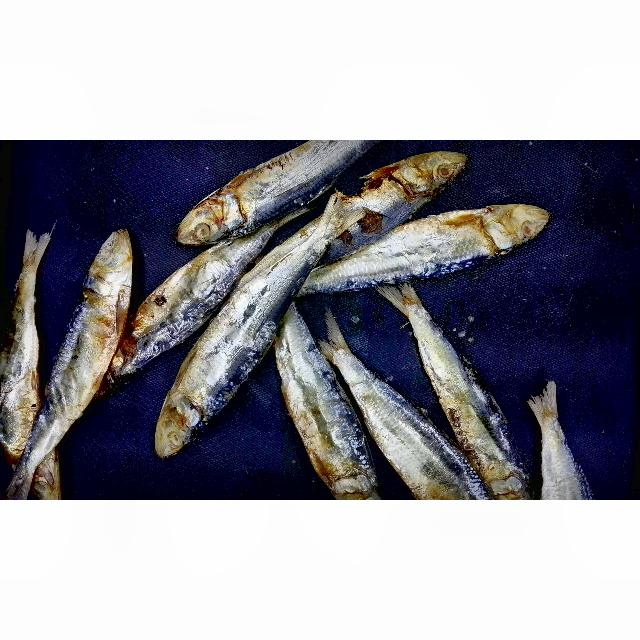Grade_B_Body: (399, 326, 531, 460), (334, 363, 471, 484), (268, 352, 381, 472), (139, 256, 251, 342), (248, 142, 372, 206), (2, 296, 54, 441), (48, 304, 122, 402), (313, 177, 406, 252)
Grade_B_Head: (144, 387, 216, 468), (79, 225, 154, 301), (389, 147, 480, 207), (483, 195, 563, 261), (168, 192, 256, 248)
Grade_B_Tail: (11, 386, 87, 500), (267, 191, 371, 274), (297, 309, 391, 397), (7, 217, 61, 305)
